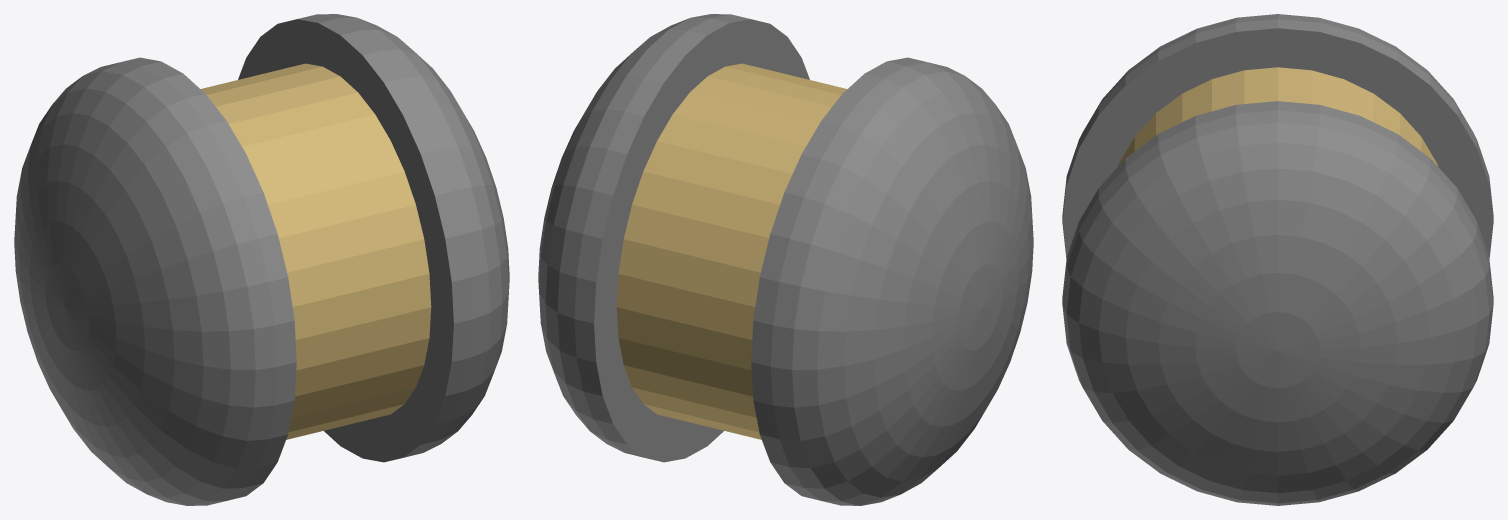
The model's file is ElectricMod.fbx.
3 renders of one model, left to right at view 1: azimuth 30°, elevation 25°; view 2: azimuth 150°, elevation 25°; view 3: azimuth 270°, elevation 25°, orthographic. The views are drawn at different scales.
Visible parts, largest first — view 1: Sphere.004; view 2: Sphere.004; view 3: Sphere.004.
Boxes of the visible parts, <box> form: Sphere.004: <box>14,14,509,505</box>; Sphere.004: <box>538,14,1033,505</box>; Sphere.004: <box>1062,14,1493,505</box>.
Bounding box in the file's own units: 20 × 20 × 20.
